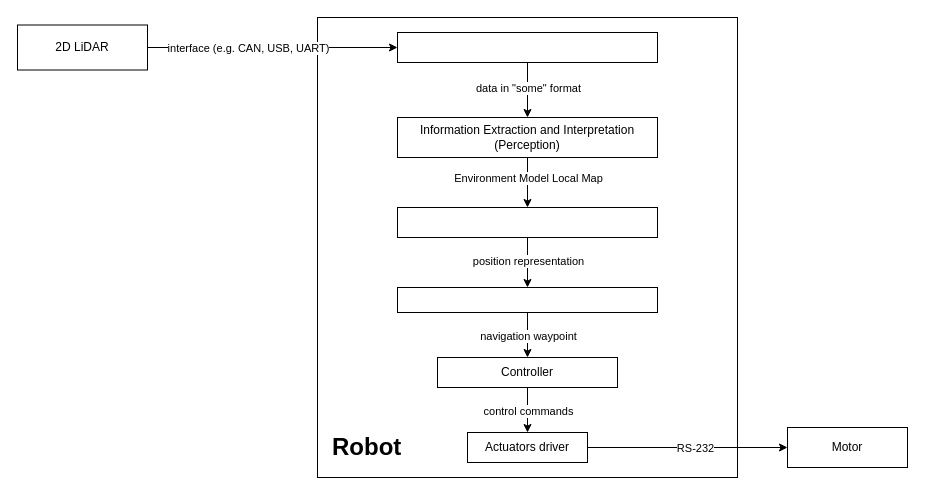
This 925x495 diagram has some shape labels left out. Each missing label, with the centre of its shape:
LiDAR driver (read the LiDAR measurements): pixel 527 47
Localization Map Building: pixel 527 222
Path Planning: pixel 527 299
